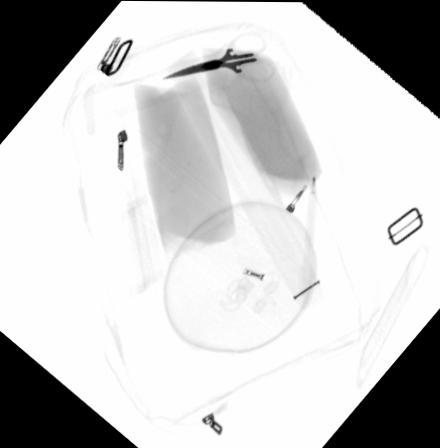Scissors: (162, 32, 278, 86)
